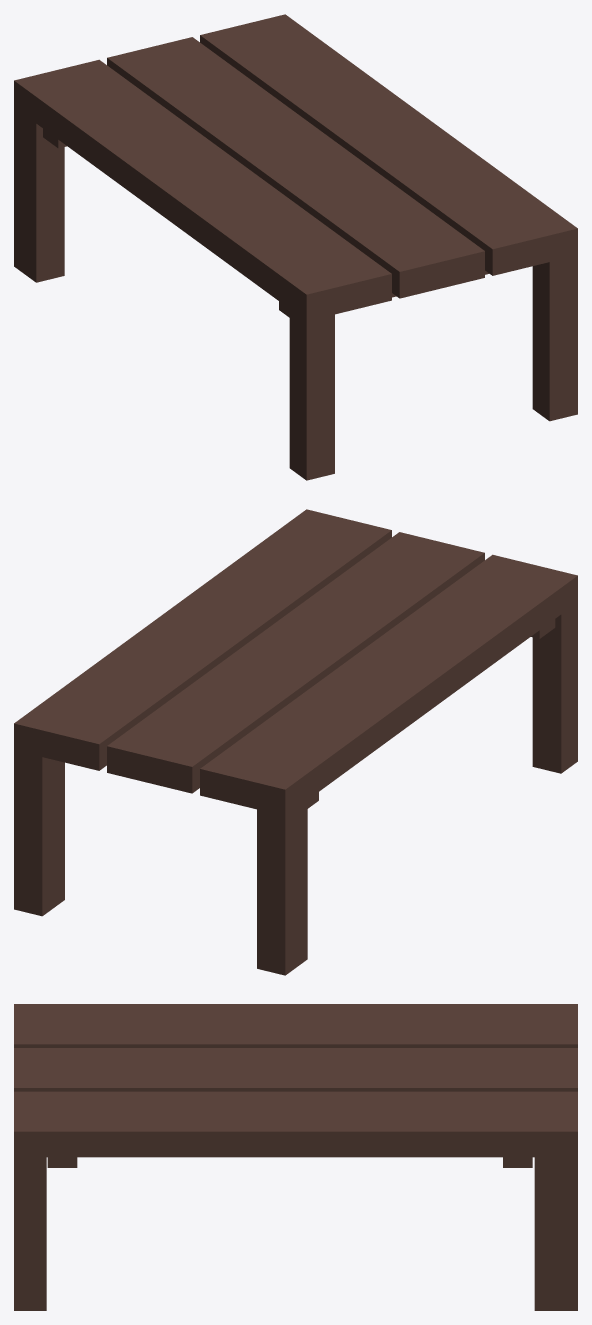
The model's file is table.fbx.
The picture shows the model from 3 angles, top to bottom: view 1: azimuth 30°, elevation 25°; view 2: azimuth 150°, elevation 25°; view 3: azimuth 270°, elevation 25°; orthographic projection. The views are drawn at different scales.
Visible parts, largest first — view 1: Table; view 2: Table; view 3: Table.
Boxes of the visible parts, left/top/right/bottom form: Table: left=14, top=14, right=577, bottom=480; Table: left=14, top=509, right=577, bottom=975; Table: left=14, top=1004, right=577, bottom=1310.
Size of the model in its own units: 151 by 99.09 by 283.
